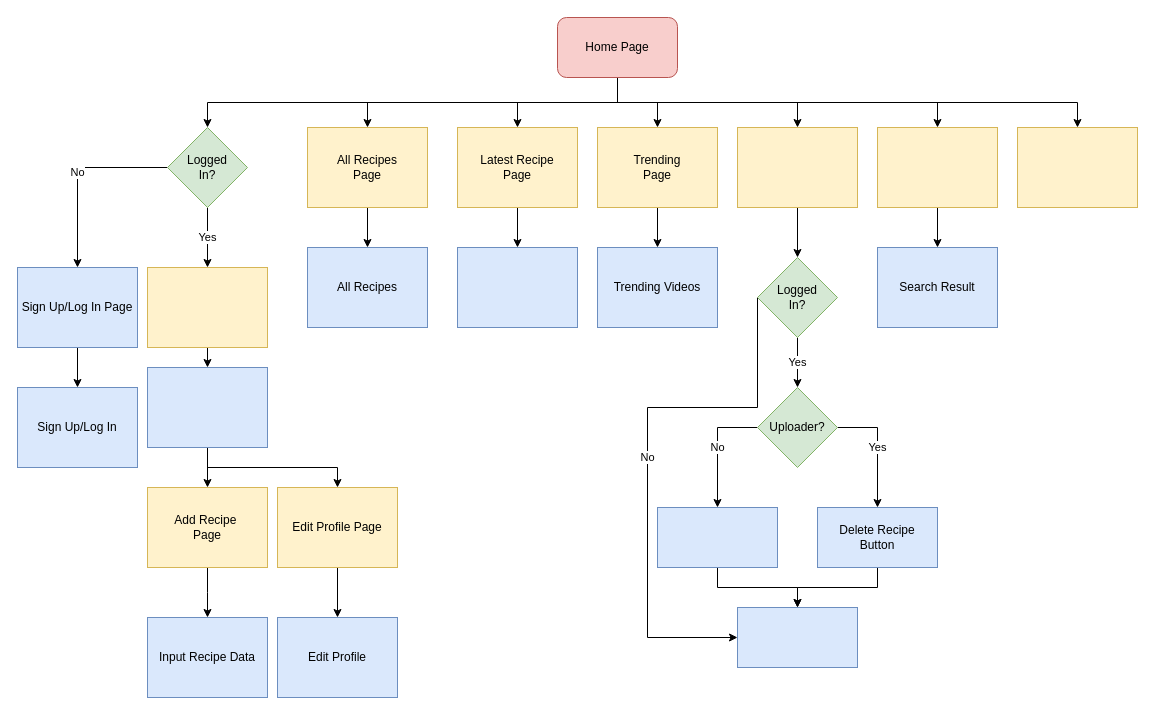
Some shapes in this 1155 by 715 pixel diagram are drawn without their labels. Each missing label, with the centre of its shape:
"About Us" belongs at (x=1077, y=167).
"Add to Favorite Button" belongs at (x=717, y=537).
"Akun Page" belongs at (x=207, y=307).
"Latest Recipes" belongs at (x=517, y=287).
"Profile Information" belongs at (x=207, y=407).
"Recipe Information" belongs at (x=797, y=637).
"Recipe Page" belongs at (x=797, y=167).
"Search Page" belongs at (x=937, y=167).
